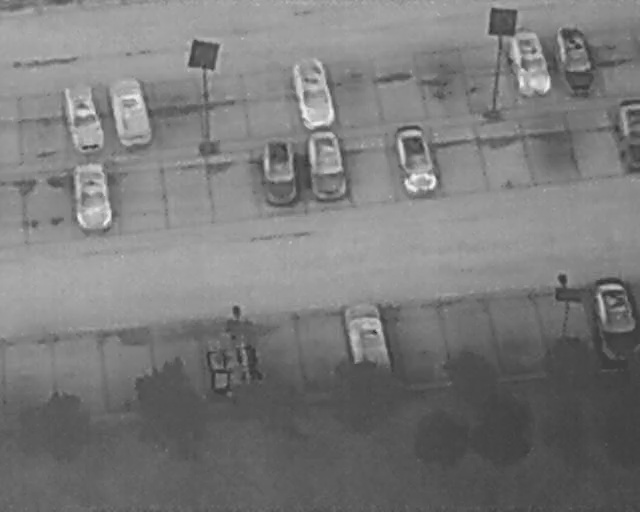Car: (338, 297, 396, 381), (103, 74, 156, 151), (593, 274, 639, 361), (390, 120, 441, 198), (288, 55, 339, 131), (503, 24, 554, 100), (303, 128, 350, 204), (552, 21, 600, 95), (61, 82, 107, 155), (70, 160, 114, 232), (259, 136, 298, 206), (617, 98, 639, 177)
